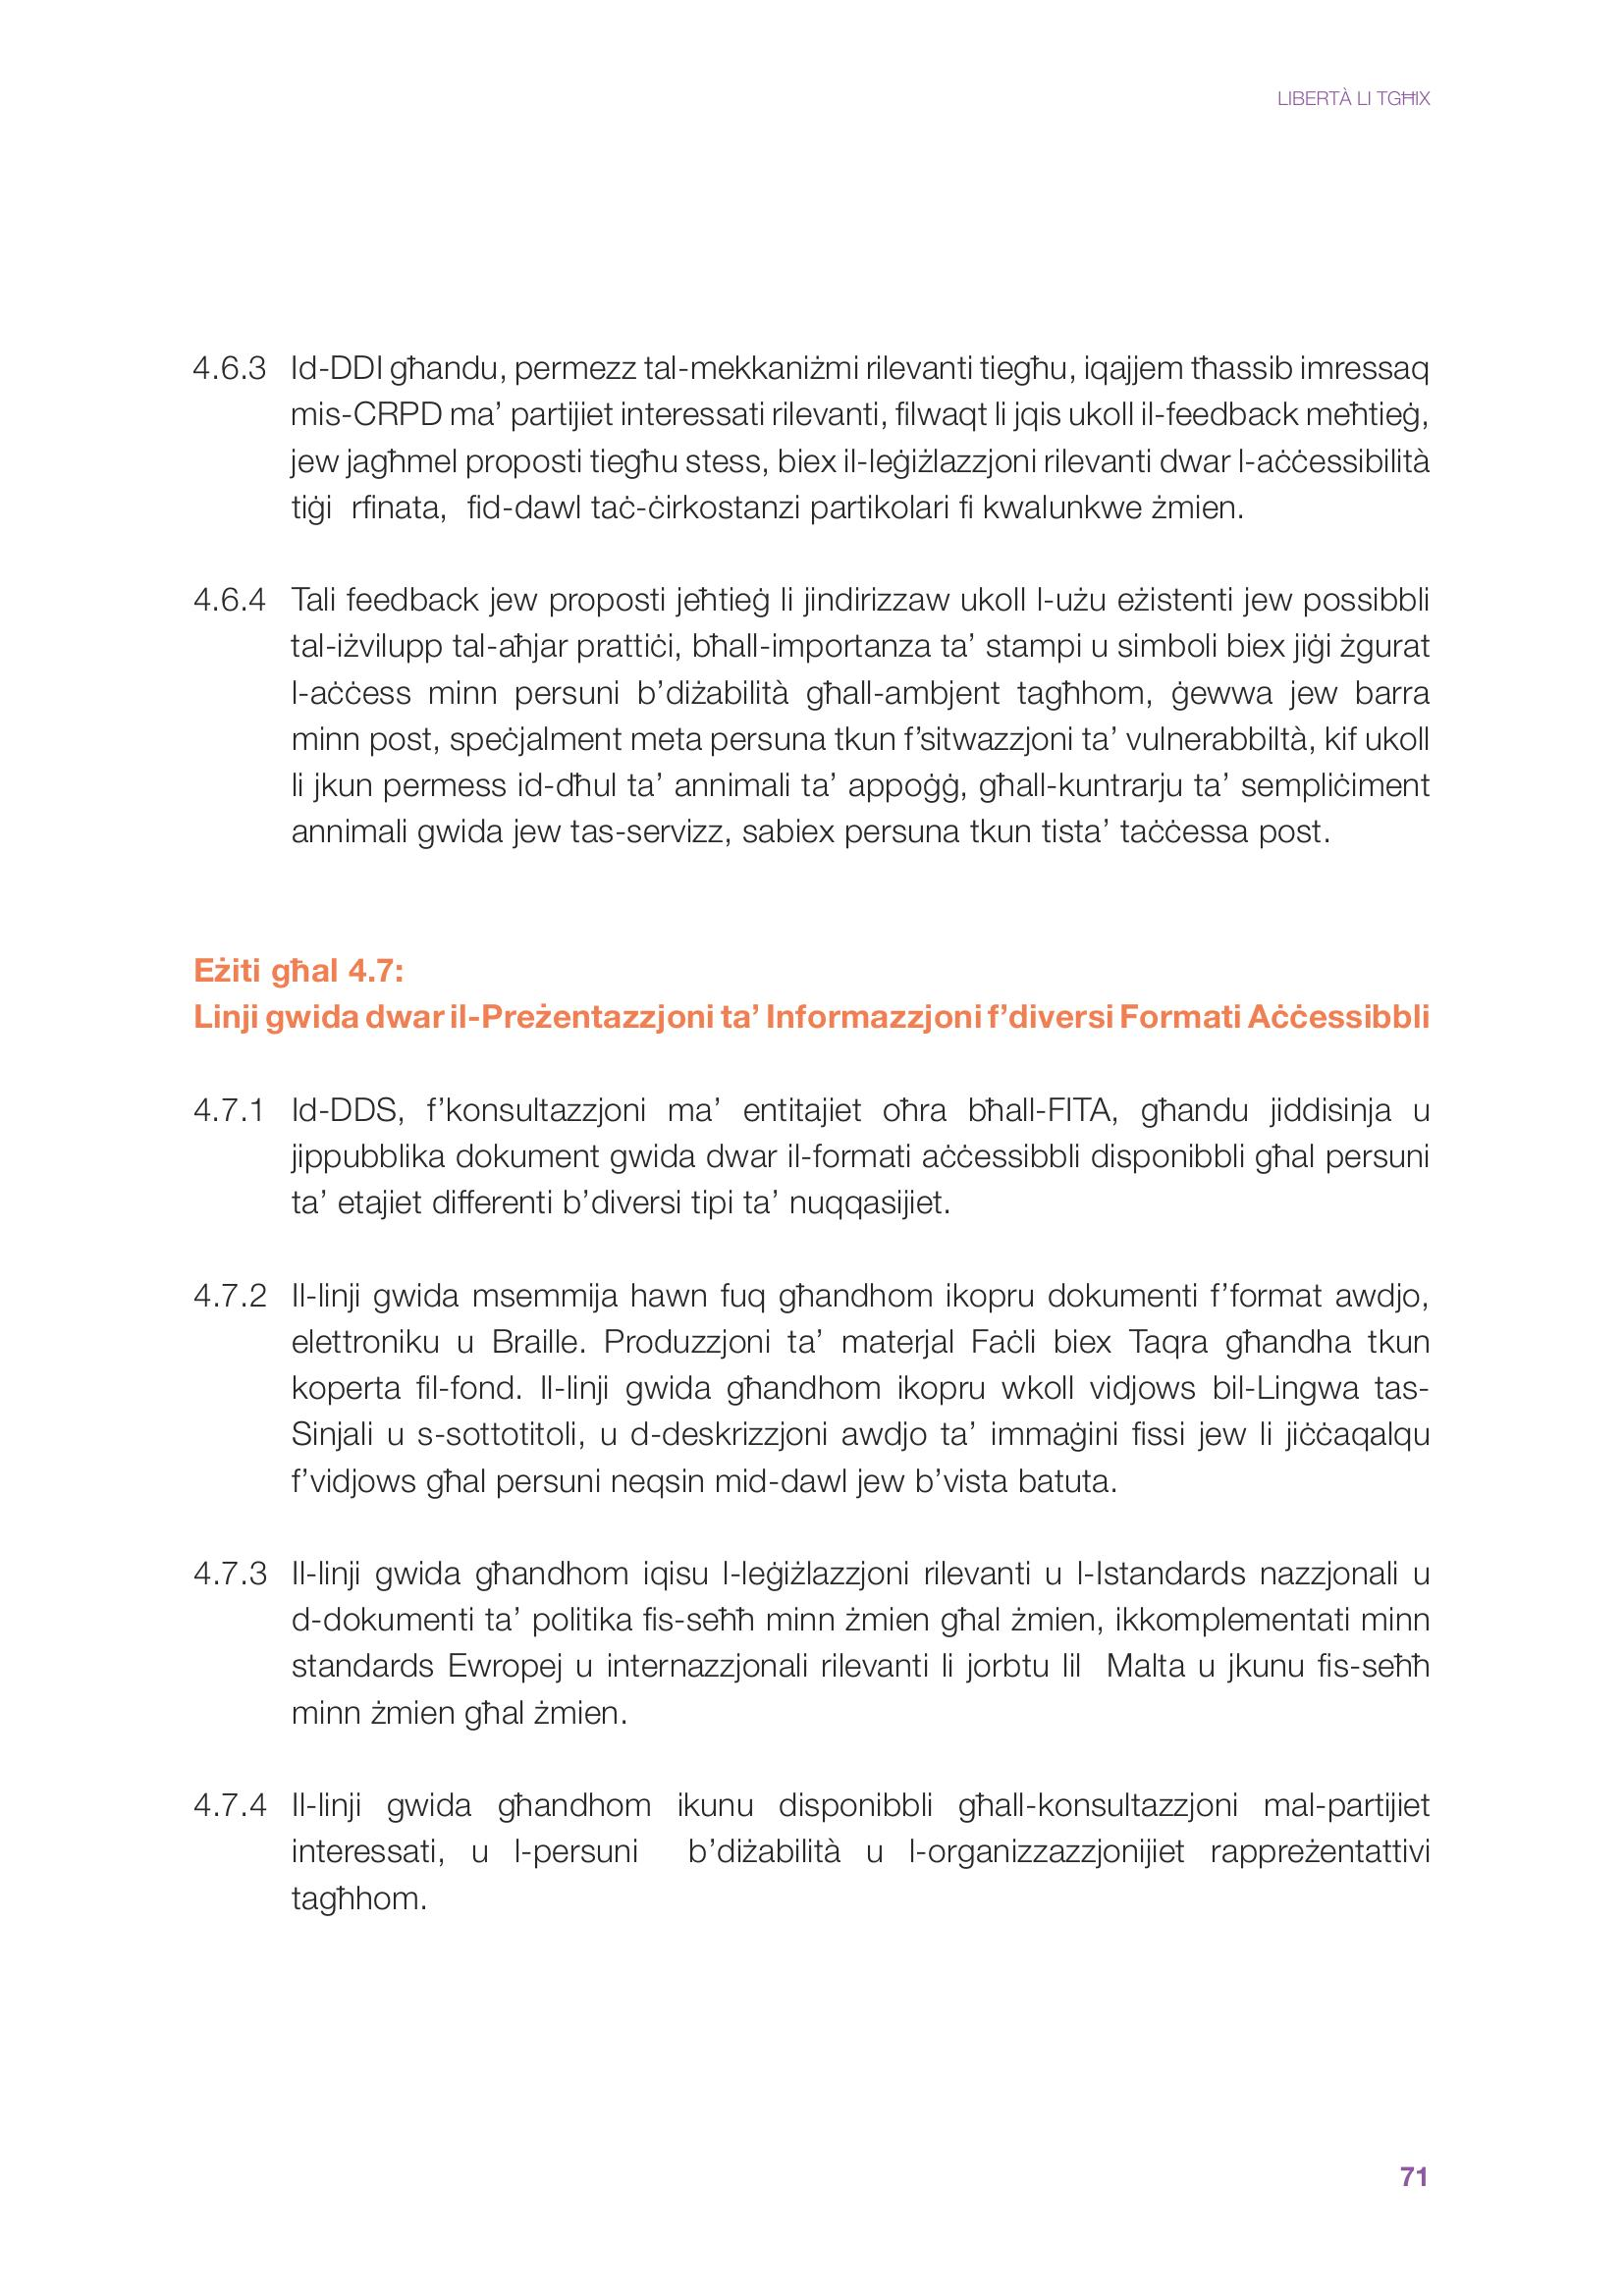text: (139, 304, 1459, 1955)
